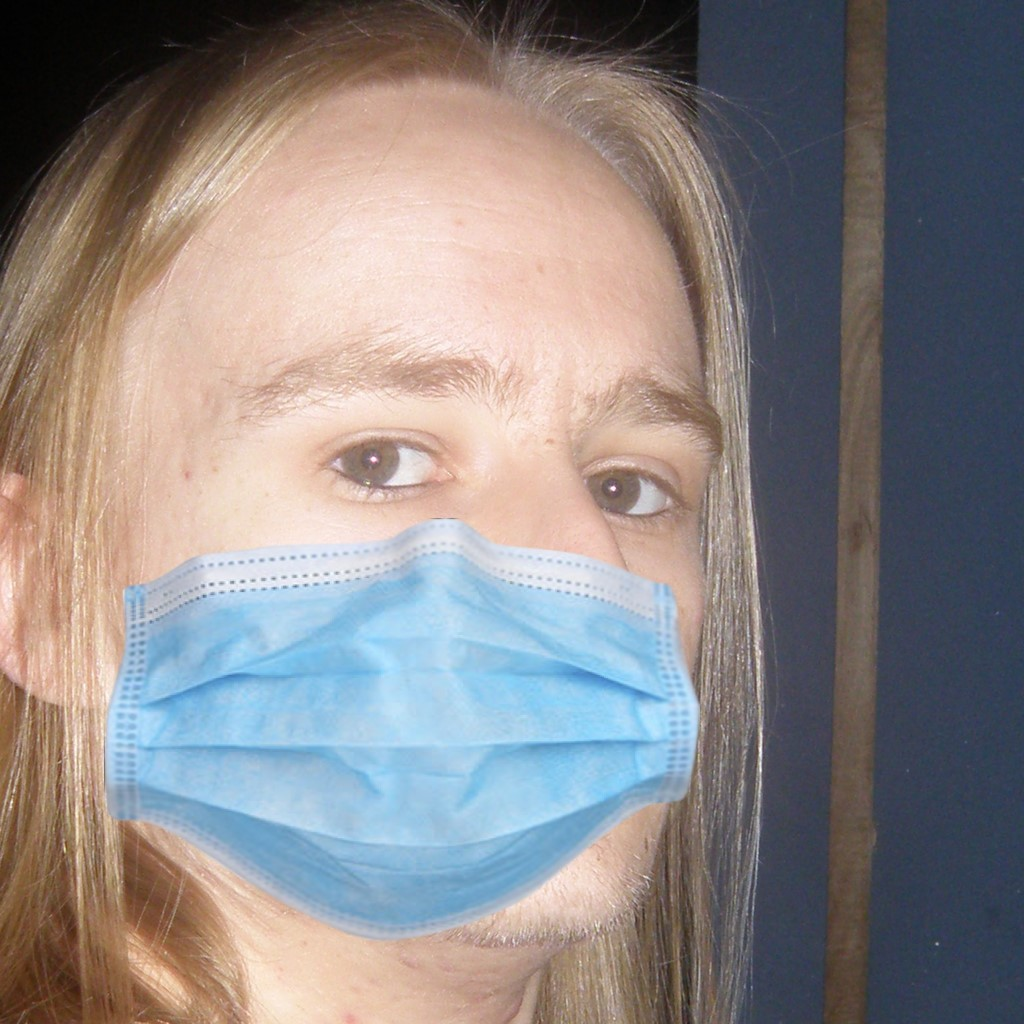con_mascara: (56, 64, 740, 970)
